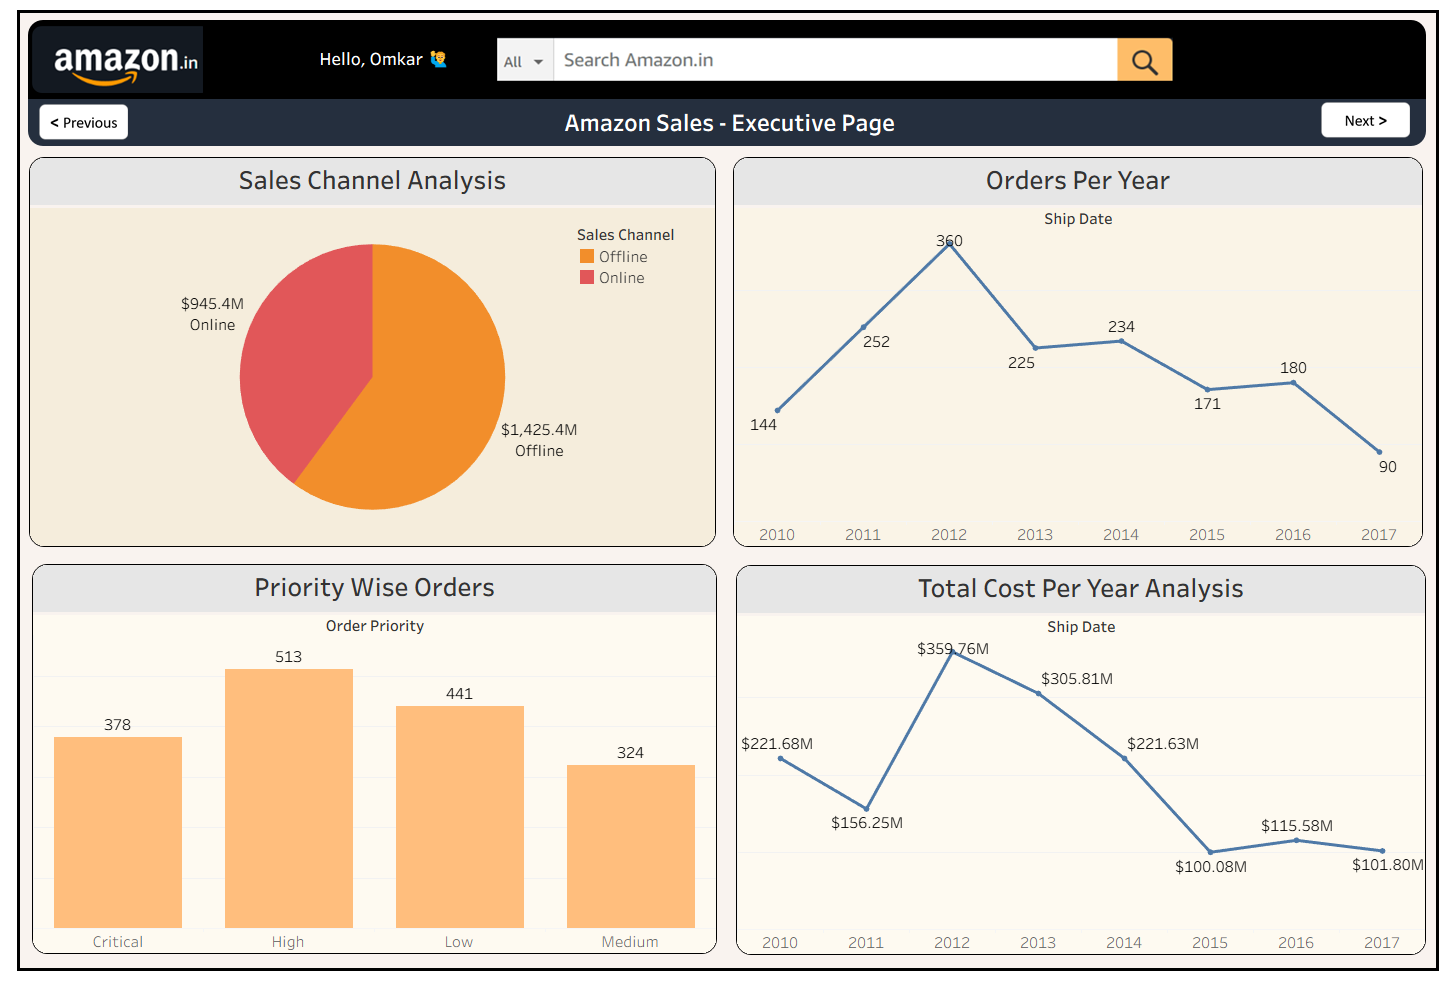

What the dashboard file says about the page in this screenshot:
{"tool":"tableau","page":{"name":"Excecutive Page","canvas":[1000,1000],"units":"permille","ordinal":0},"visuals":[{"type":"blank","box":[0,0,1001.4,1001]},{"type":"blank","box":[7.8,10.4,984.5,105.2]},{"type":"image","param":"Image/Picture3.png","box":[10.6,16.3,126.5,69.8]},{"type":"image","param":"Image/Picture5.png","box":[338,28.1,476.1,49]},{"type":"text","box":[210.6,32.3,112.7,35.4]},{"type":"blank","box":[7.8,92.7,984.5,49]},{"type":"dashboard-object","box":[918.3,94.8,62.7,42.7]},{"type":"text","box":[383.1,95.8,238,40.6]},{"type":"dashboard-object","box":[15.5,96.9,62.7,42.7]},{"type":"worksheet","title":"Sales Channel Analysis","mark":"Pie","box":[8.4,153.1,483.8,406.2]},{"type":"worksheet","title":"Orders Per Year","mark":"Automatic","rows":["Calculation_0892825058463744"],"cols":["Ship Date"],"box":[504.2,153.1,485.9,406.2]},{"type":"legend","title":"Sales Channel Analysis","param":"[federated.17vmmfo1akv8vy1bi0ddc08ok5zb].[none:Sales Channel:nk]","box":[394.4,222.9,98.6,66.7]},{"type":"worksheet","title":"Priority Wise Orders","mark":"Automatic","rows":["Calculation_0892825058463744"],"cols":["Order Priority"],"box":[10.6,577.1,482.4,406.2]},{"type":"worksheet","title":"Shipments Per Year","mark":"Automatic","rows":["Total Cost"],"cols":["Ship Date"],"box":[506.3,578.1,485.9,406.2]}]}

Visuals, with their boxes on the dashboard's canvas, which has no fixed pixel size, in thousandths of its width and height (x1, y1, x2, y2). These are canvas units, not pixel positions in the 1451x982 screenshot, which may show the page scaled, cropped or inside an application window:
blank: rect(0, 0, 1001, 1001)
blank: rect(8, 10, 992, 116)
image: rect(11, 16, 137, 86)
image: rect(338, 28, 814, 77)
text: rect(211, 32, 323, 68)
blank: rect(8, 93, 992, 142)
dashboard-object: rect(918, 95, 981, 138)
text: rect(383, 96, 621, 136)
dashboard-object: rect(16, 97, 78, 140)
"Sales Channel Analysis" worksheet (Pie marks): rect(8, 153, 492, 559)
"Orders Per Year" worksheet: rect(504, 153, 990, 559)
"Sales Channel Analysis" legend: rect(394, 223, 493, 290)
"Priority Wise Orders" worksheet: rect(11, 577, 493, 983)
"Shipments Per Year" worksheet: rect(506, 578, 992, 984)
